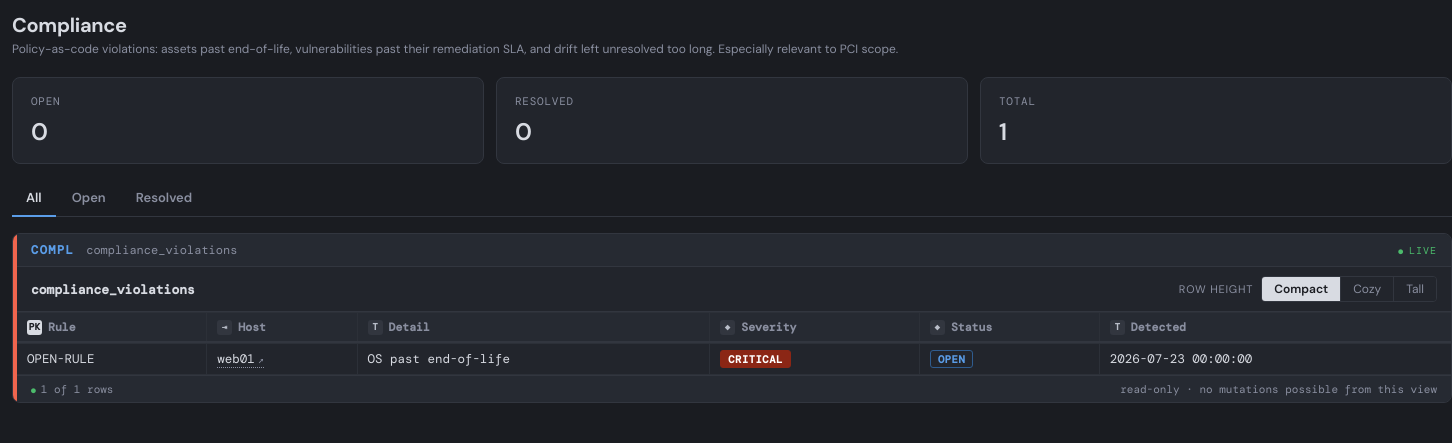
Test: Compl page — Open/Resolved tile accuracy (TRK-167 follow-up: fleet-wide aggregate) › shows a filter-zero empty state when switching to a tab with no matching rows but other data exists
Expected: the text "OPEN-RULE" is shown, left=17, top=344, right=207, bottom=374
Click the tab "Resolved" at x=164, y=198, box left=122, top=180, right=206, bottom=217
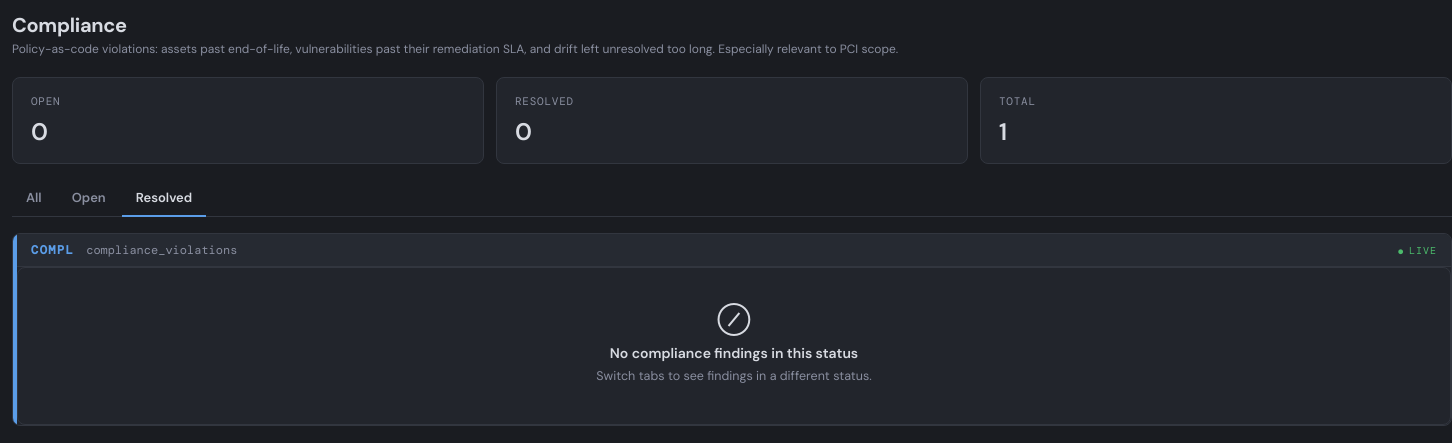
Now the text "No compliance findings in this status" is shown, box left=610, top=344, right=858, bottom=362
